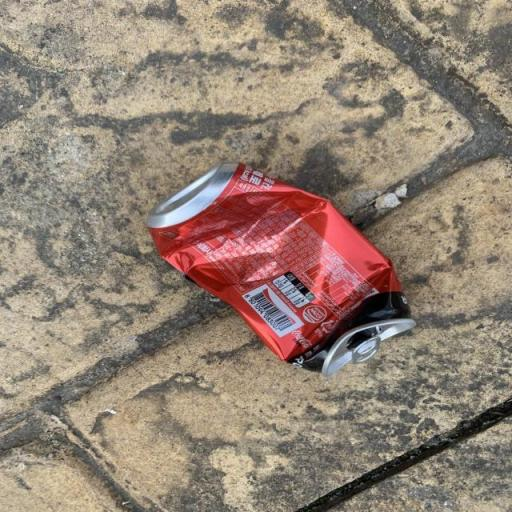metal: (125, 148, 429, 385)
